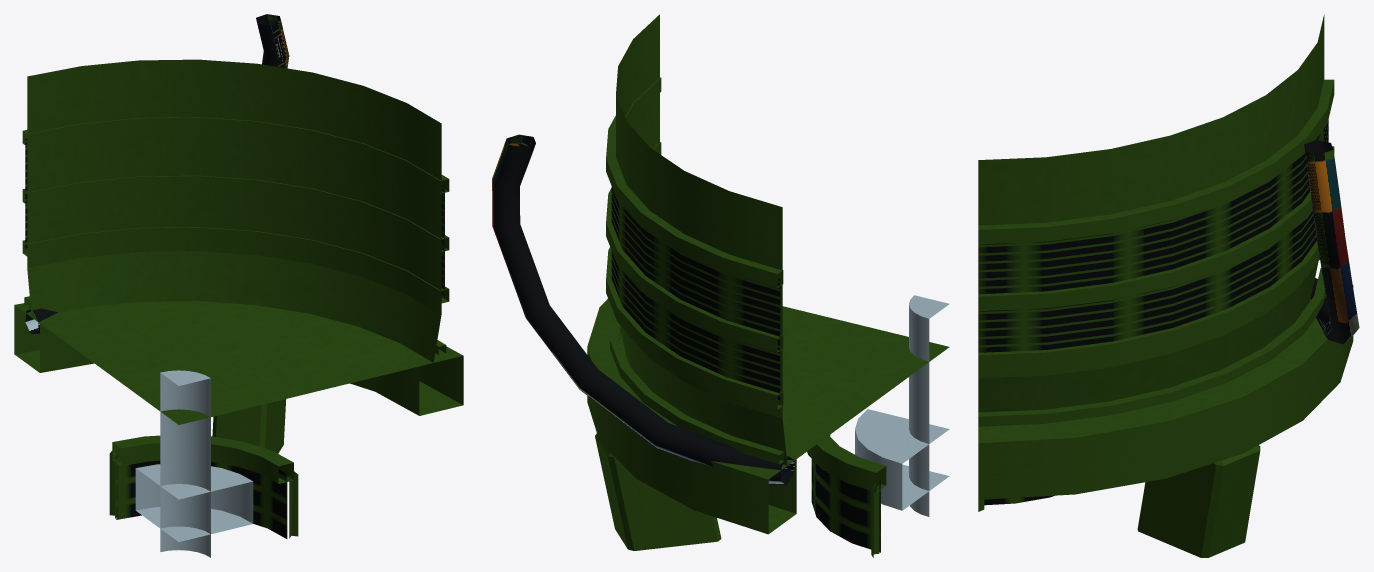
Rendered from cell_18.obj.
3 views of the same model, side by side, from view 1: azimuth 30°, elevation 25°; view 2: azimuth 150°, elevation 25°; view 3: azimuth 270°, elevation 25° (orthographic). The views are drawn at different scales.
Visible parts, largest first — view 1: cell_18; view 2: cell_18; view 3: cell_18.
Part boxes in pixels (x1=…): cell_18: x1=14, y1=14, x2=463, y2=557; cell_18: x1=492, y1=14, x2=949, y2=557; cell_18: x1=978, y1=14, x2=1359, y2=557.
Bounding box in the file's own units: 0.7875 × 1 × 0.8008.
